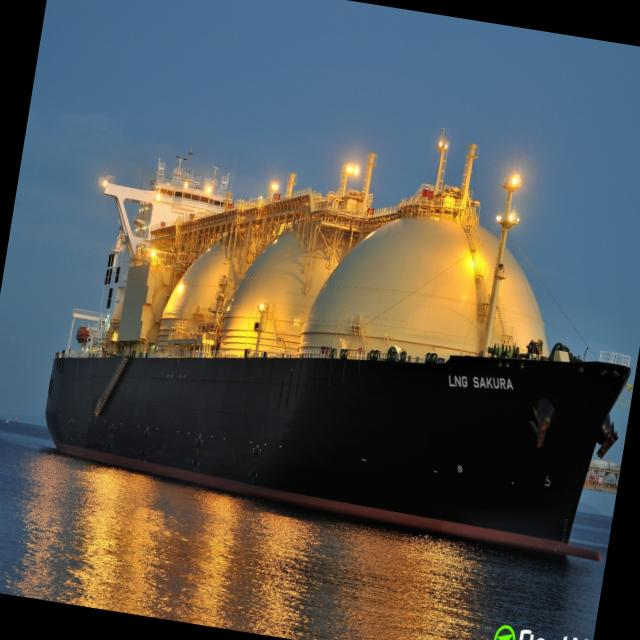boat: (17, 55, 640, 597)
